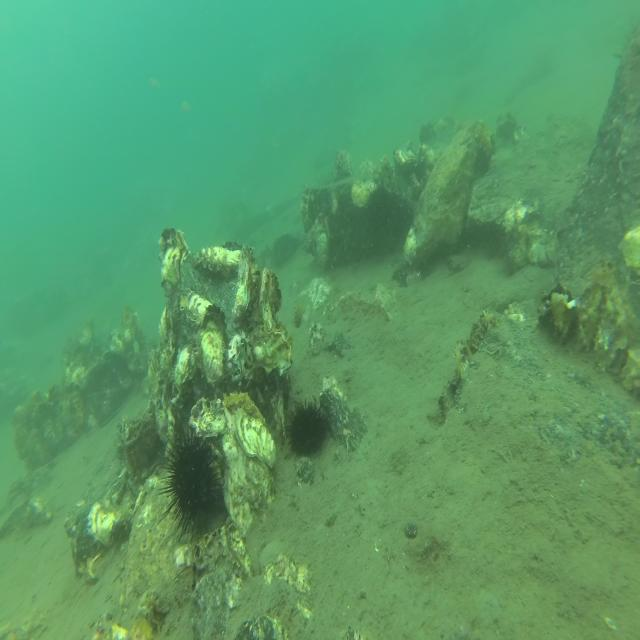echinus: (157, 423, 226, 551), (283, 396, 331, 462), (363, 183, 396, 227), (124, 432, 156, 473)
